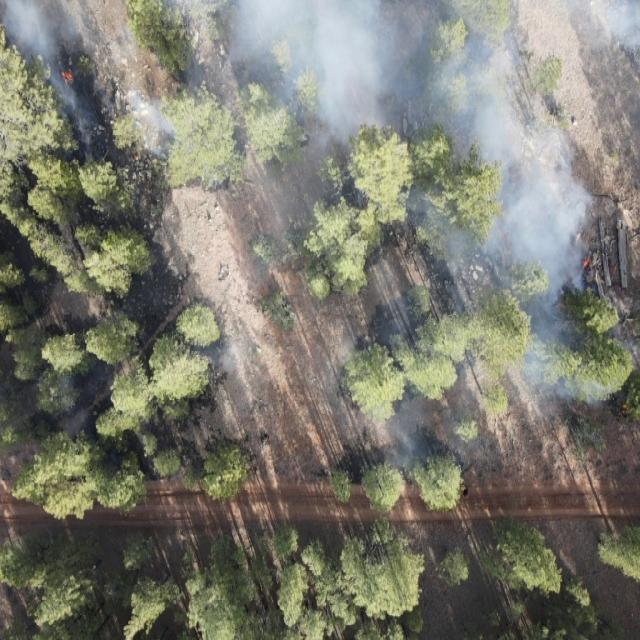fire: (580, 256, 594, 272), (60, 70, 74, 82)
smoke: (0, 0, 640, 178), (347, 178, 617, 416), (234, 179, 347, 291), (386, 416, 492, 479), (51, 380, 99, 444), (208, 334, 250, 374)
